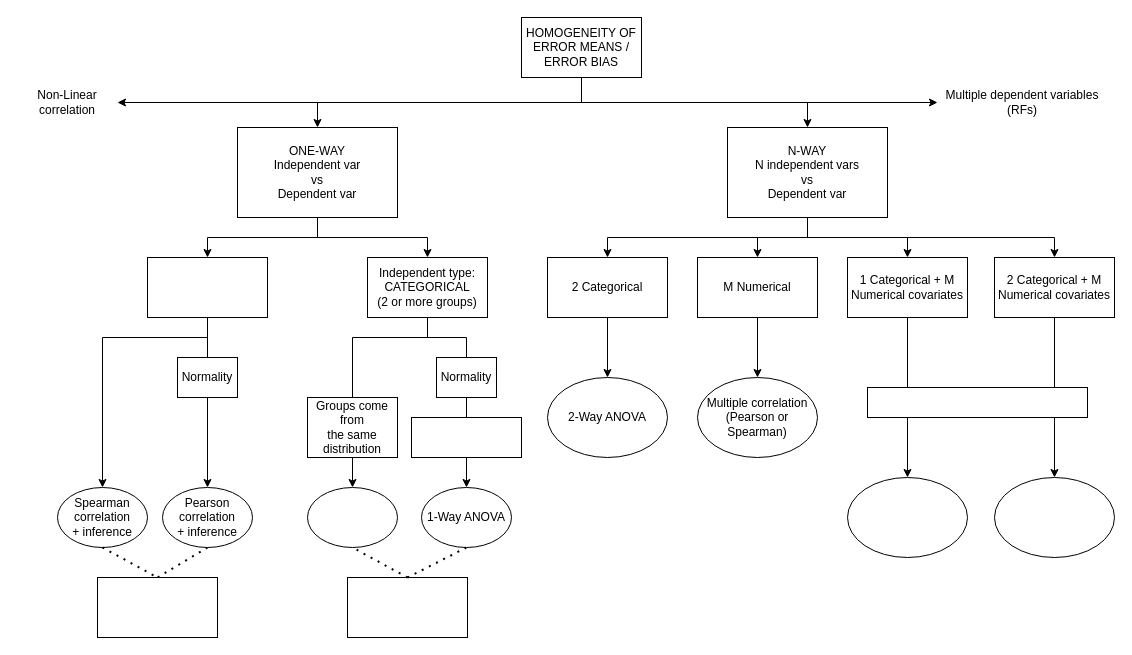
Some shapes in this 1132 by 655 pixel diagram are drawn without their labels. The centre of each missing label's shape, as x and y in pixels:
+ Homogeneity of covariances: the point at 977,402
1-Way ANCOVA: the point at 907,517
2-Way ANCOVA: the point at 1054,517
H0: Both variables significantly correlated?: the point at 157,607
H0: Equal means among groups?: the point at 407,607
Homoscedasticity: the point at 466,437
Independent type: NUMERICAL: the point at 207,287
Kruskal-Wallis: the point at 352,517
